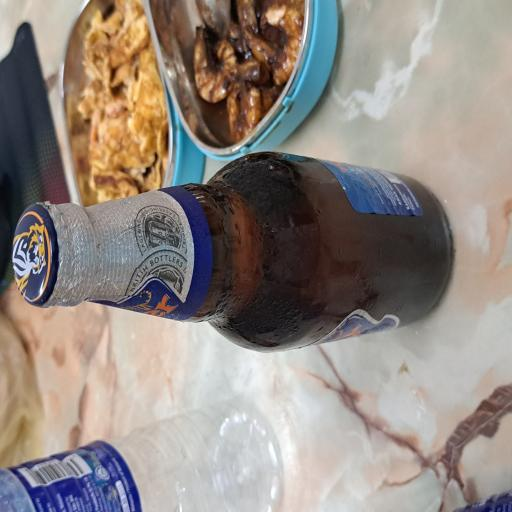glass bottle: (122, 15, 271, 512)
plastic bottle: (0, 0, 86, 382)
